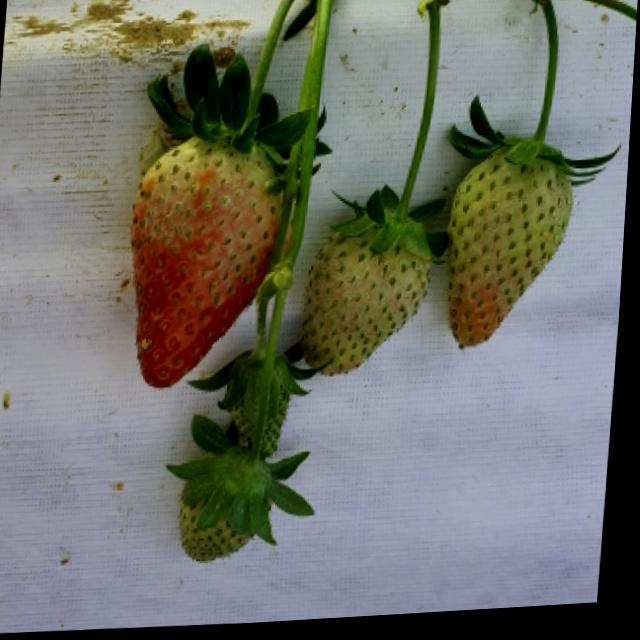Powdery Mildew Fruit: (131, 134, 284, 393)
